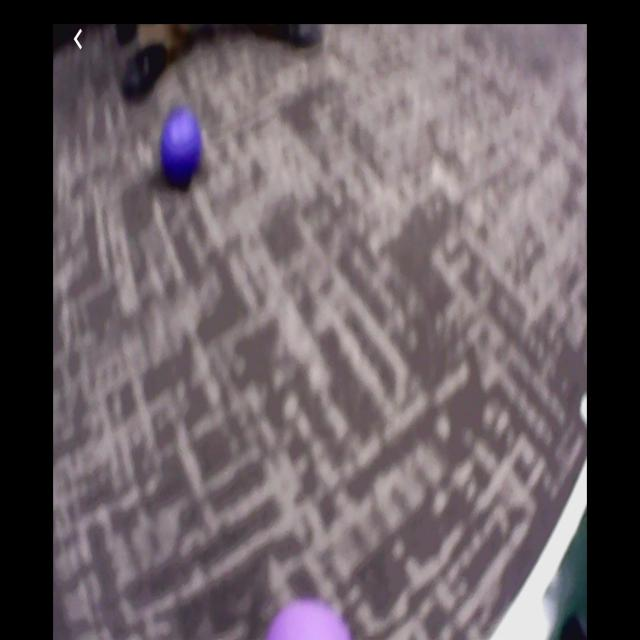ball: (266, 600, 351, 640), (161, 106, 202, 182)
